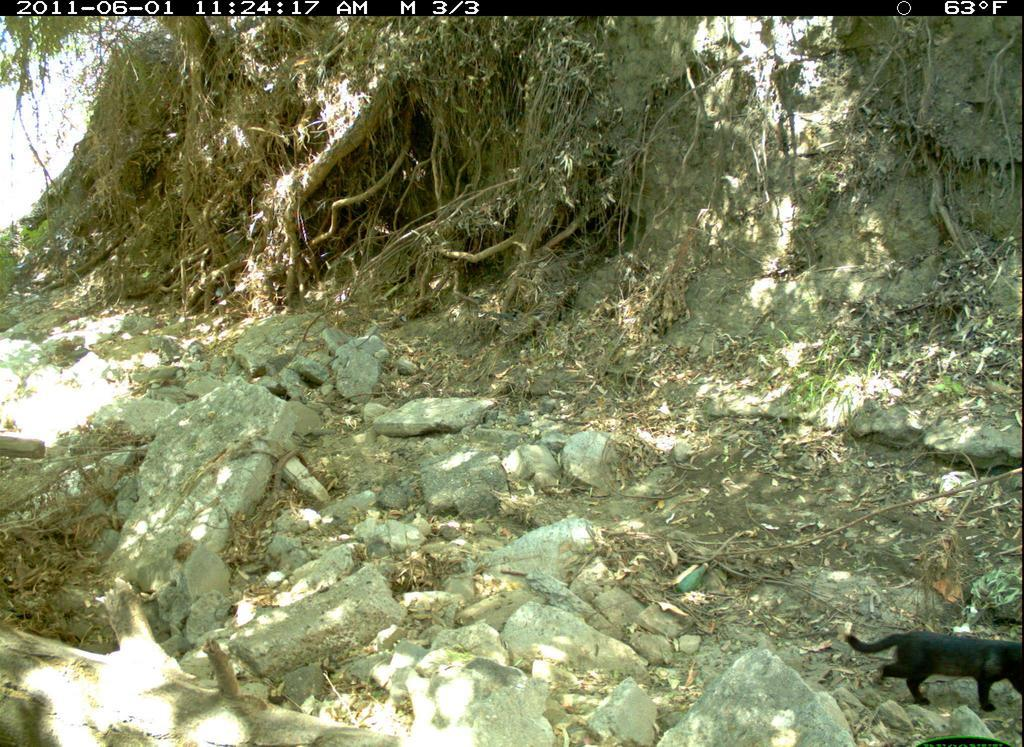cat: (833, 598, 1022, 721)
